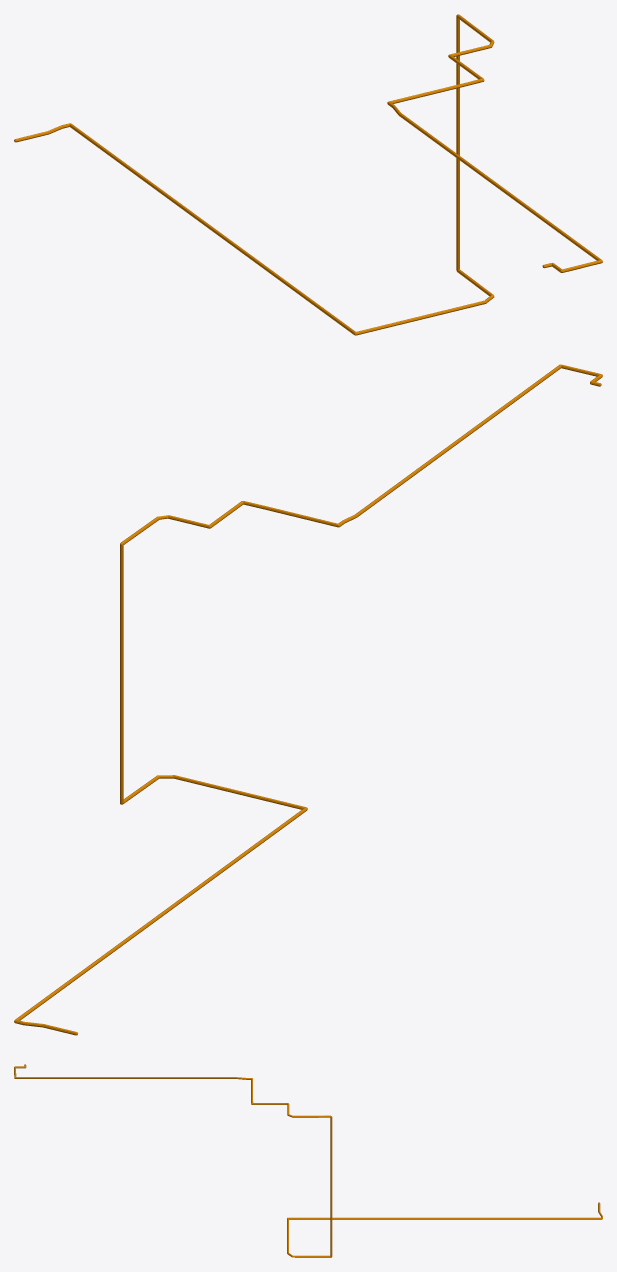
The picture shows the model from 3 angles, top to bottom: view 1: azimuth 30°, elevation 25°; view 2: azimuth 150°, elevation 25°; view 3: azimuth 270°, elevation 25°; orthographic projection. The views are drawn at different scales.
Size of the model in its own units: 1248 by 1520 by 5722.
